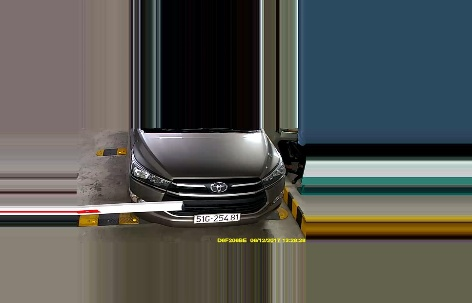plate: (192, 209, 239, 221)
